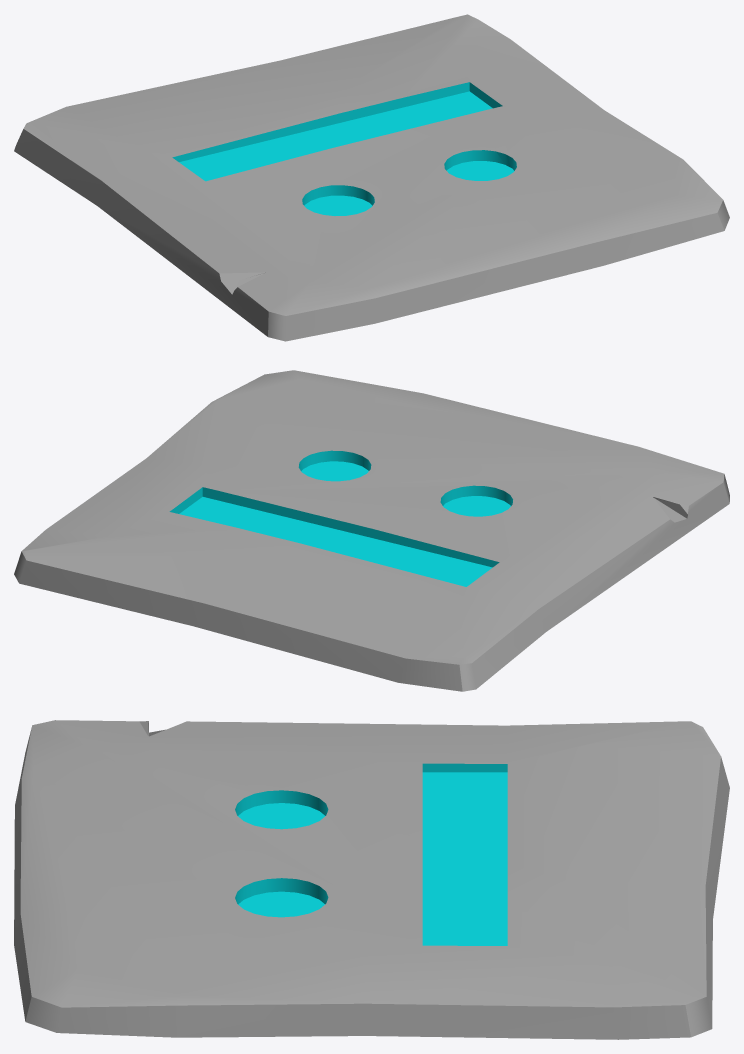
File: dalle7.fbx
The picture shows the model from 3 angles, top to bottom: view 1: azimuth 30°, elevation 25°; view 2: azimuth 150°, elevation 25°; view 3: azimuth 270°, elevation 25°; orthographic projection. The views are drawn at different scales.
Parts seen in each view (by area): view 1: pCube5; view 2: pCube5; view 3: pCube5.
Part boxes in pixels (x1,y1,x2,y2): pCube5: [14, 14, 729, 341]; pCube5: [14, 370, 729, 691]; pCube5: [14, 720, 729, 1039].
Size of the model in its own units: 6.99 by 0.4395 by 7.18.
